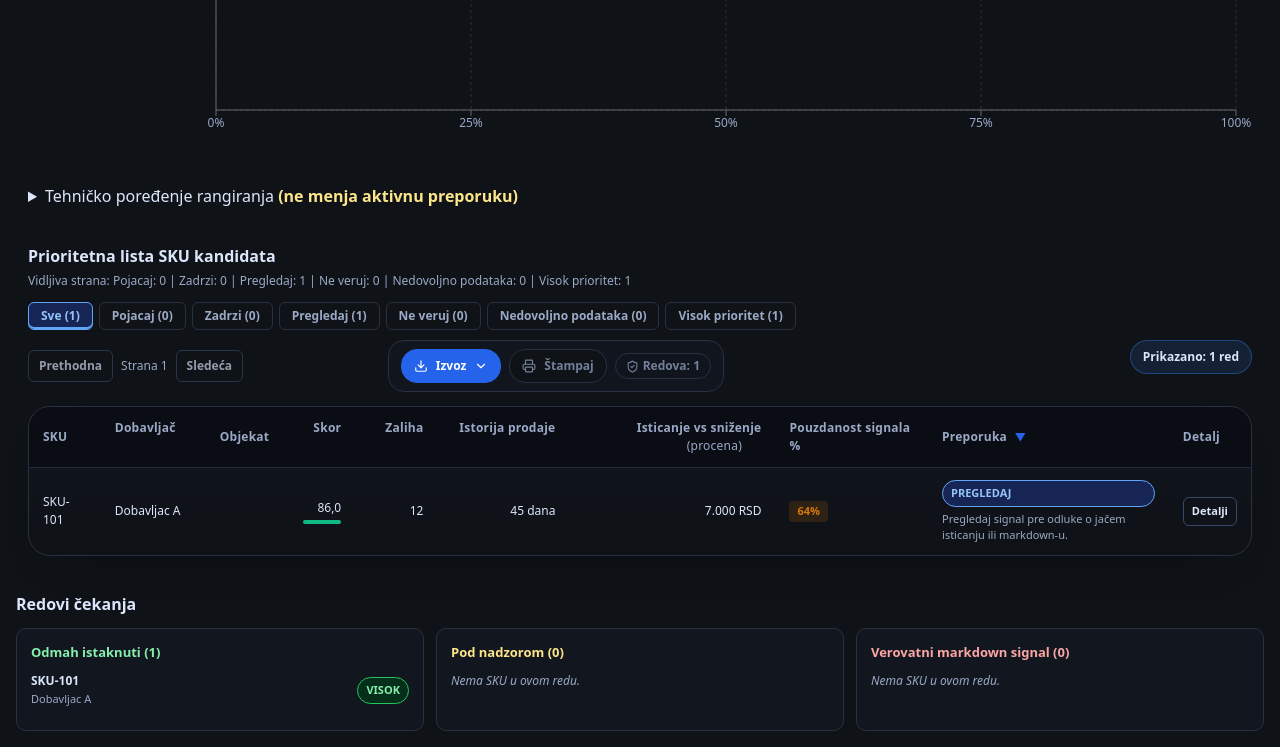
Test: PreNivelacijaPriorityPage › labels v9 comparison experimental and keeps the active v10 recommendation authoritative
The image size is (1280, 747).
(page scrolled)
Expected: the text "Tehničko poređenje rangiranja (ne menja aktivnu preporuku)" is shown, [45,185,518,207]
What coordinates should you click on to do the following:
click the button "Detalji"
I would click on:
 (1210, 511)
Its box is [1183,497,1237,526].
(page scrolled)
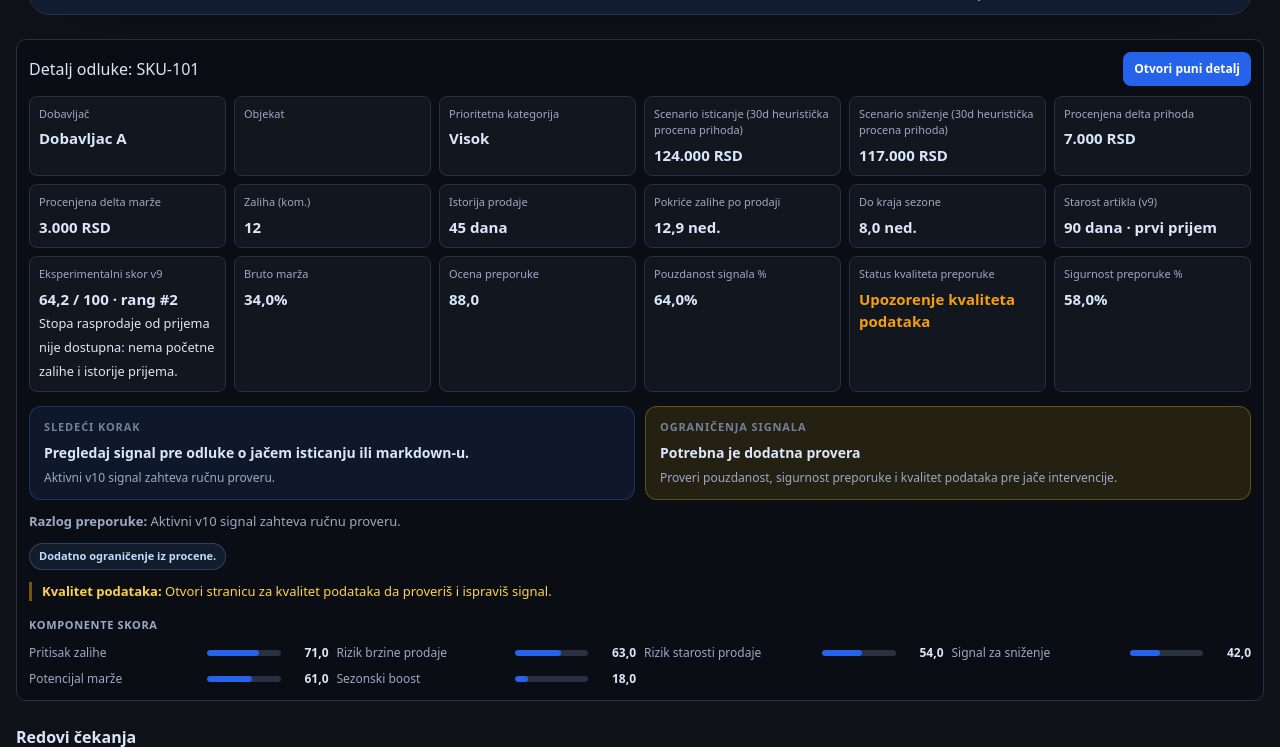
Expected: the text "Aktivni v10 signal zahteva ručnu proveru." is shown, [44,469,275,486]
Expected: the text "Eksperimentalni skor v9" is shown, [39,266,162,281]
Expected: the text "Stopa rasprodaje od prijema nije dostupna" is shown, [39,314,214,380]
